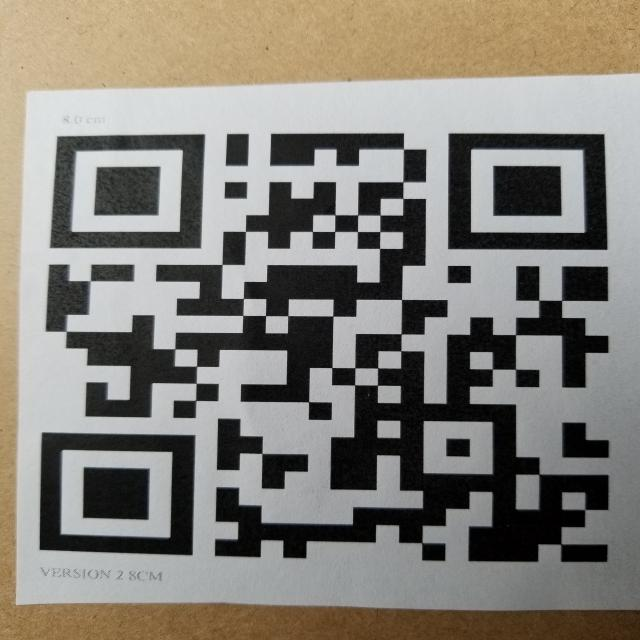QR_CODE: (28, 93, 630, 586)
